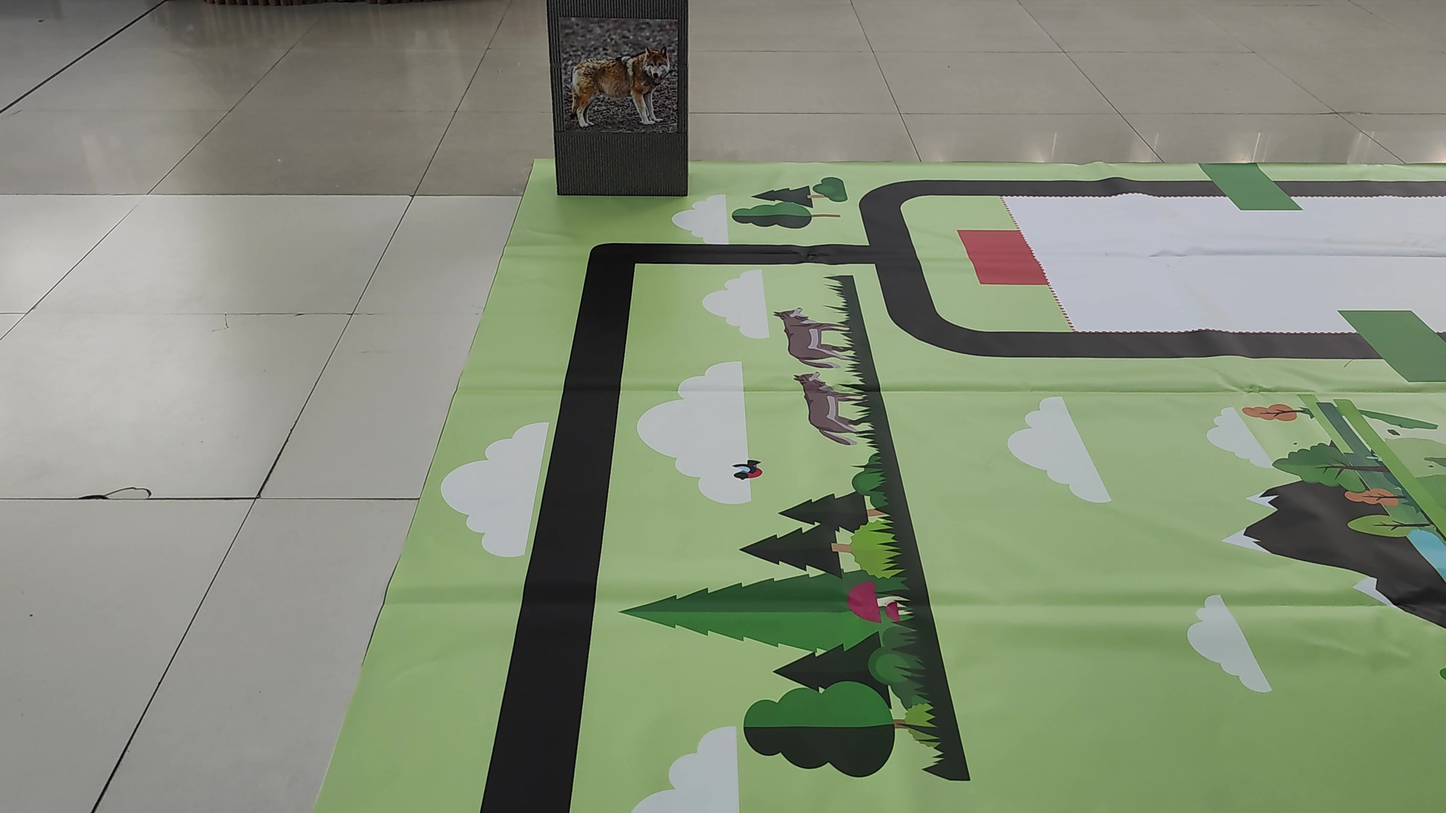wolf: (561, 11, 671, 134)
